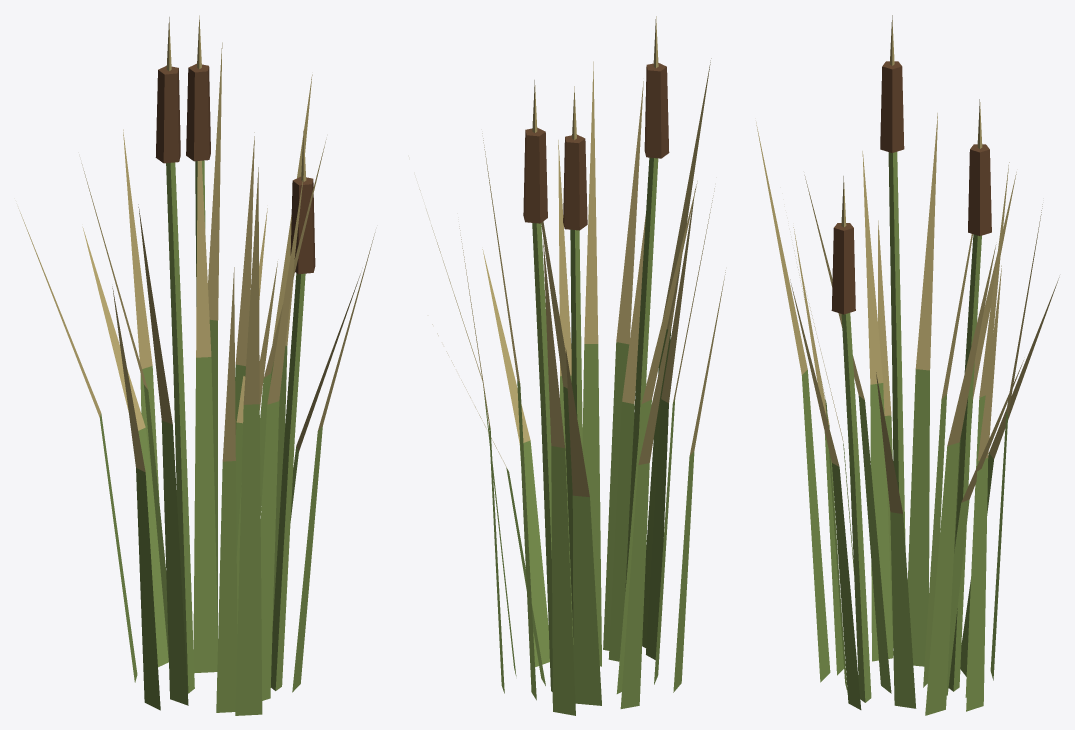
The model's file is reeds.glb.
3 views of the same model, side by side, from view 1: azimuth 30°, elevation 25°; view 2: azimuth 150°, elevation 25°; view 3: azimuth 270°, elevation 25° (orthographic). The views are drawn at different scales.
Parts seen in each view (by area): view 1: Body; view 2: Body; view 3: Body.
Part boxes in pixels (bbox=[...]): Body: bbox=[18, 15, 375, 715]; Body: bbox=[419, 16, 725, 715]; Body: bbox=[756, 15, 1059, 715].
Size of the model in its own units: 0.8886 by 2.02 by 0.8702.
